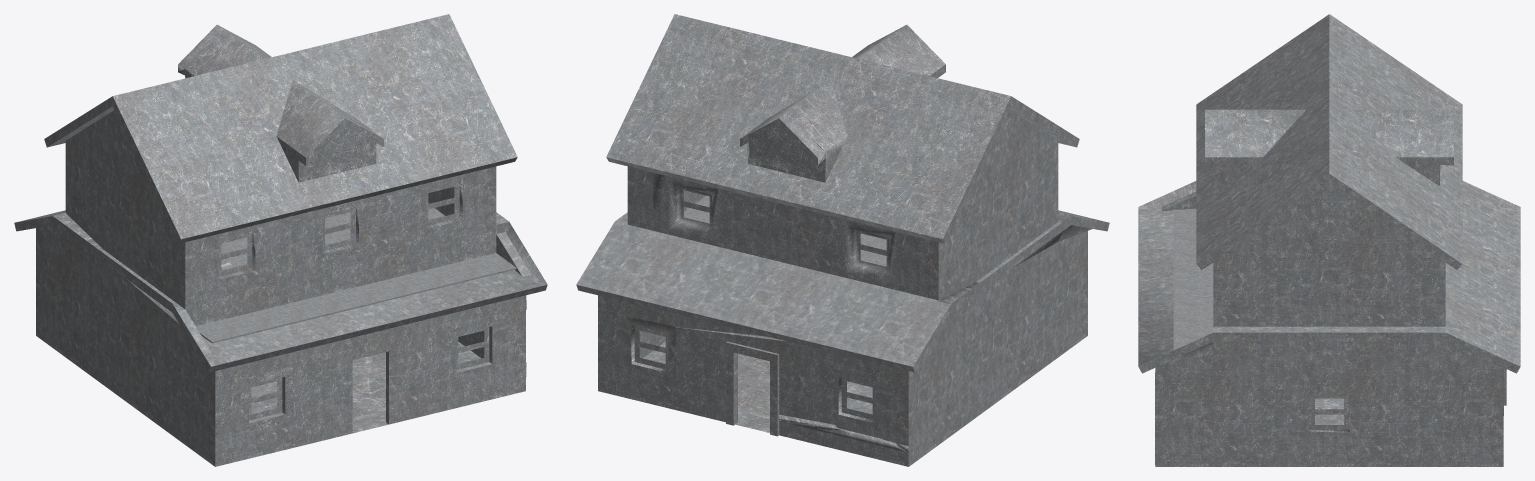
The model's file is BLOCKYGON_HOUSE1.fbx.
3 views of the same model, side by side, from view 1: azimuth 30°, elevation 25°; view 2: azimuth 150°, elevation 25°; view 3: azimuth 270°, elevation 25° (orthographic). The views are drawn at different scales.
Visible parts, largest first — view 1: BLOCKYGON_HOUSE1; view 2: BLOCKYGON_HOUSE1; view 3: BLOCKYGON_HOUSE1.
Boxes of the visible parts, x1,y1,x2,y2 form: BLOCKYGON_HOUSE1: [14, 14, 547, 466]; BLOCKYGON_HOUSE1: [576, 14, 1109, 466]; BLOCKYGON_HOUSE1: [1138, 14, 1520, 466].
Size of the model in its own units: 975 by 855 by 987.
